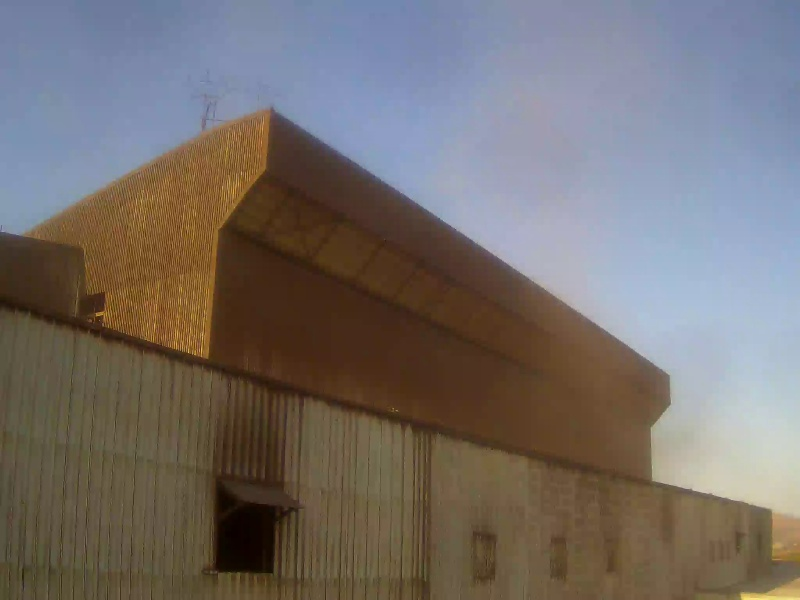Pessimo: (268, 111, 683, 515)
